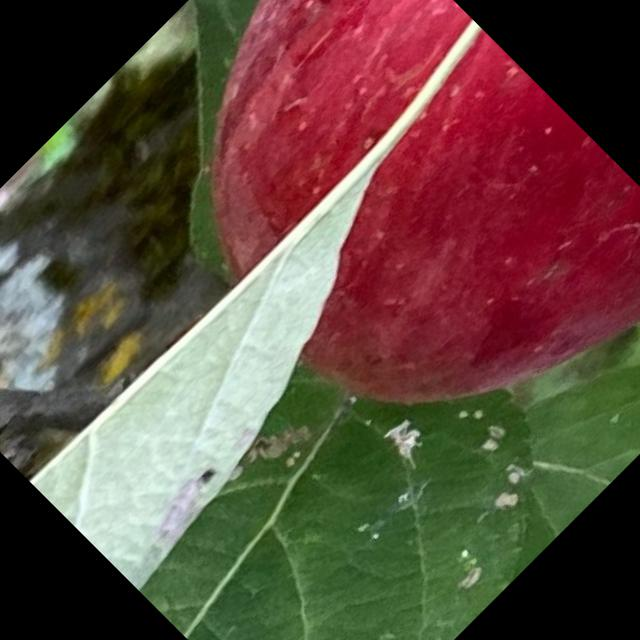Apples: (73, 0, 639, 527)
